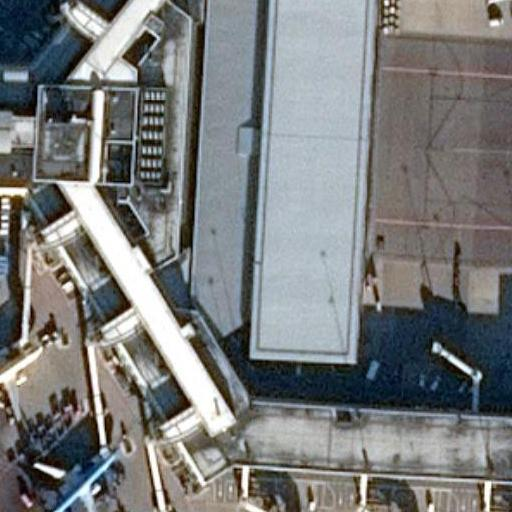Aircraft: (19, 438, 123, 512), (0, 330, 48, 420), (485, 0, 512, 44)
